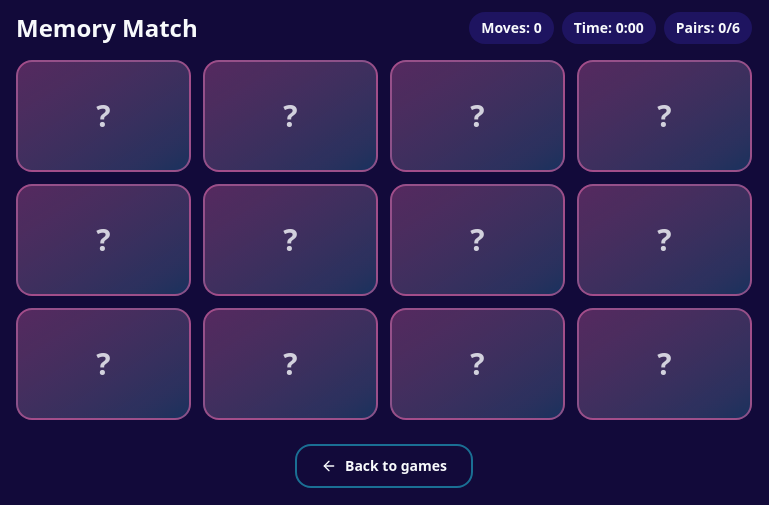
Test: MemoryMatch › ticks the elapsed play time
This screenshot has width=769, height=505.
Click the button with test id "memory-card": coordinates (104, 116) [16,60,191,172]
Wait 3000 ms
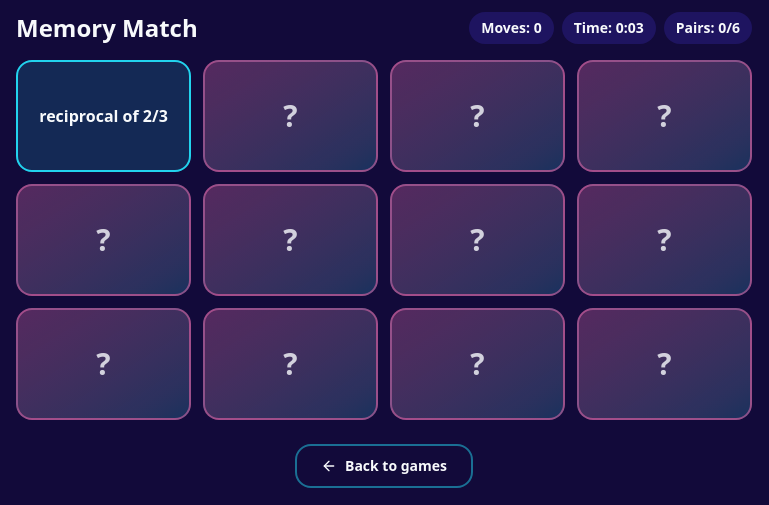
Expected: the text "Time: 0:03" is shown, [562,12,656,44]
